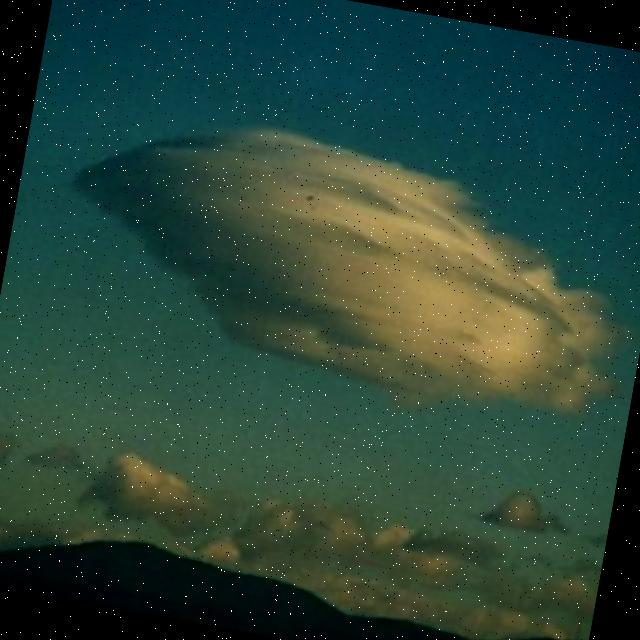Ac: (26, 79, 640, 459)
